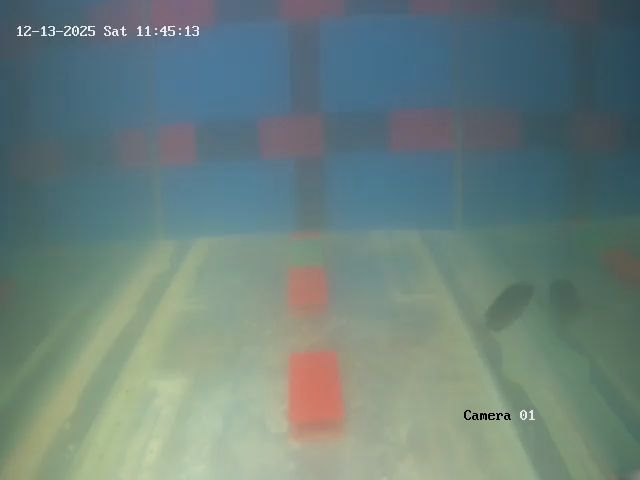fish: (483, 273, 534, 340)
